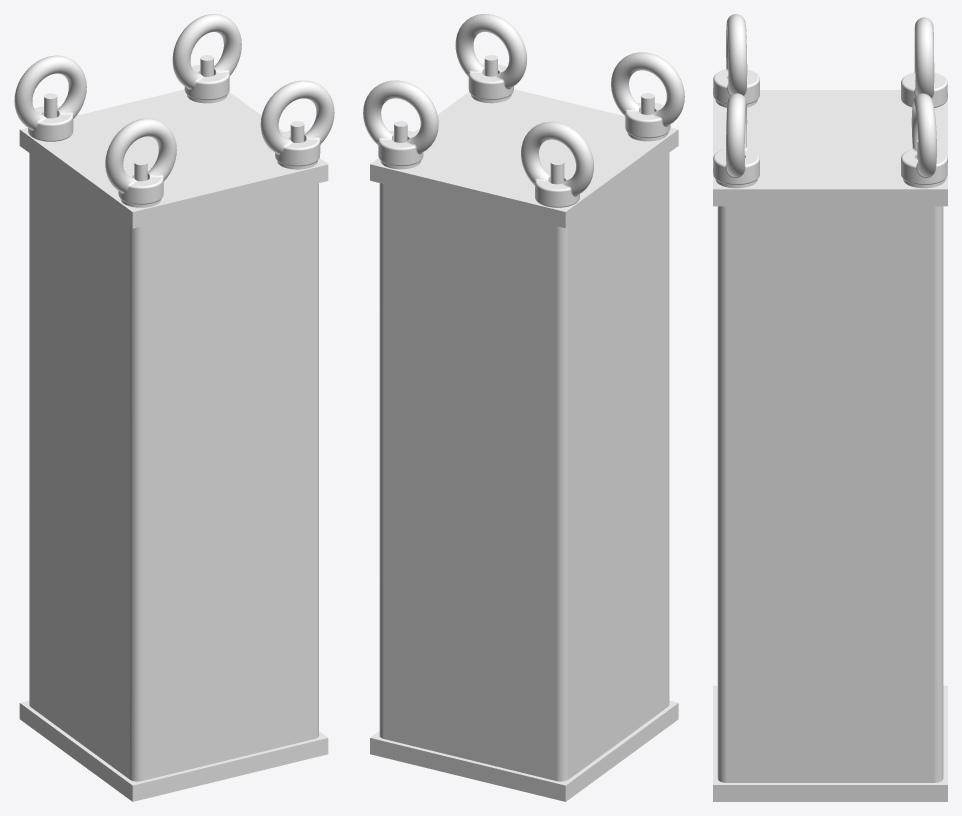
File: Estrutura.obj
3 views of the same model, side by side, from view 1: azimuth 30°, elevation 25°; view 2: azimuth 150°, elevation 25°; view 3: azimuth 270°, elevation 25° (orthographic). The views are drawn at different scales.
Visible parts, largest first — view 1: Body1:5, Body1:7, Body1, Body1:13, Body1:14, Body1:11, Body1:12; view 2: Body1:5, Body1:7, Body1, Body1:12, Body1:11, Body1:14, Body1:13; view 3: Body1:5, Body1:7, Body1, Body1:12, Body1:13, Body1:11, Body1:14.
Part boxes in pixels (box(x1,y1,x2,y2)): Body1:5: box(29, 153, 318, 781); Body1:7: box(19, 89, 328, 228); Body1: box(19, 700, 328, 801); Body1:13: box(260, 80, 334, 166); Body1:14: box(14, 55, 86, 141); Body1:11: box(105, 118, 176, 204); Body1:12: box(172, 14, 241, 100); Body1:5: box(379, 153, 669, 781); Body1:7: box(370, 89, 678, 228); Body1: box(370, 700, 678, 801); Body1:12: box(363, 80, 438, 166); Body1:11: box(611, 52, 684, 138); Body1:14: box(521, 121, 593, 207); Body1:13: box(455, 14, 527, 99); Body1:5: box(717, 206, 943, 782); Body1:7: box(713, 90, 947, 206); Body1: box(713, 685, 947, 801); Body1:12: box(901, 93, 947, 184); Body1:13: box(713, 93, 759, 184); Body1:11: box(713, 14, 759, 104); Body1:14: box(901, 17, 947, 107).
Size of the model in its own units: 116 by 327 by 100.
